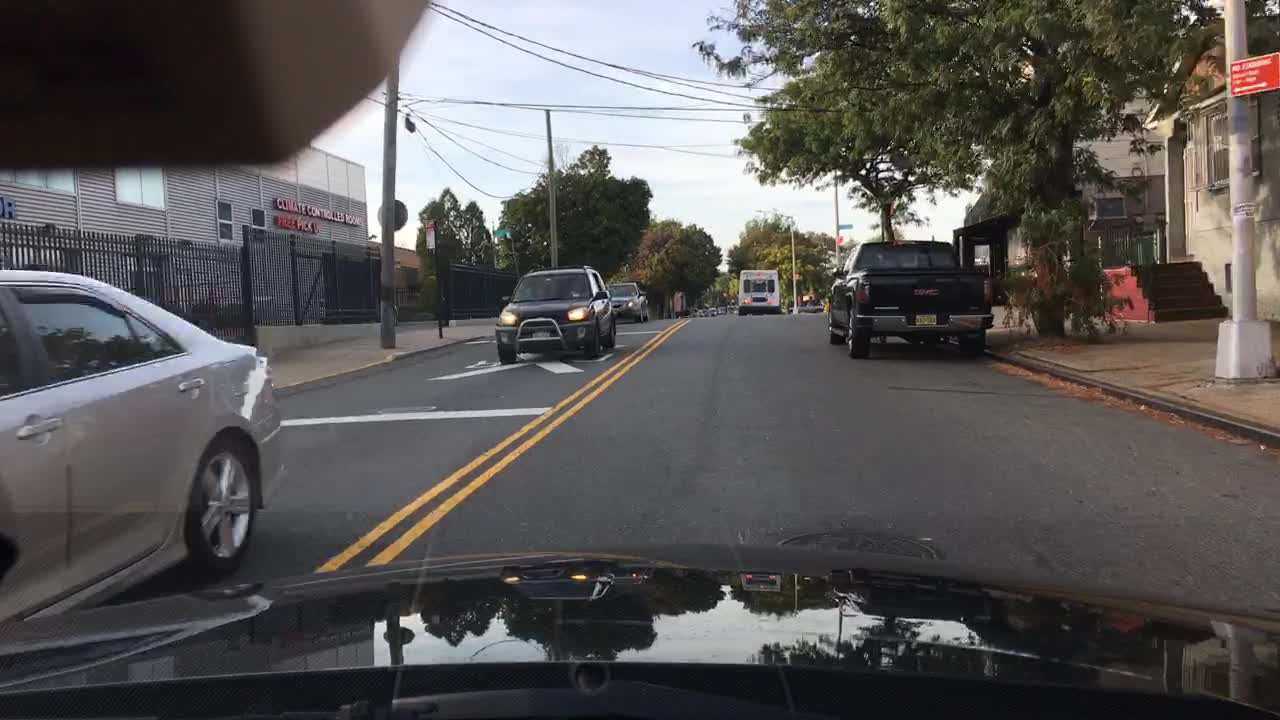bus: (737, 269, 780, 313)
car: (0, 266, 286, 622), (493, 265, 615, 363), (608, 279, 650, 325), (790, 302, 821, 313), (685, 306, 697, 316), (707, 306, 717, 316), (717, 305, 727, 315), (696, 306, 704, 317)
traffic sign: (1228, 52, 1277, 93), (376, 199, 408, 230), (489, 223, 509, 238)
truck: (823, 237, 995, 360)
